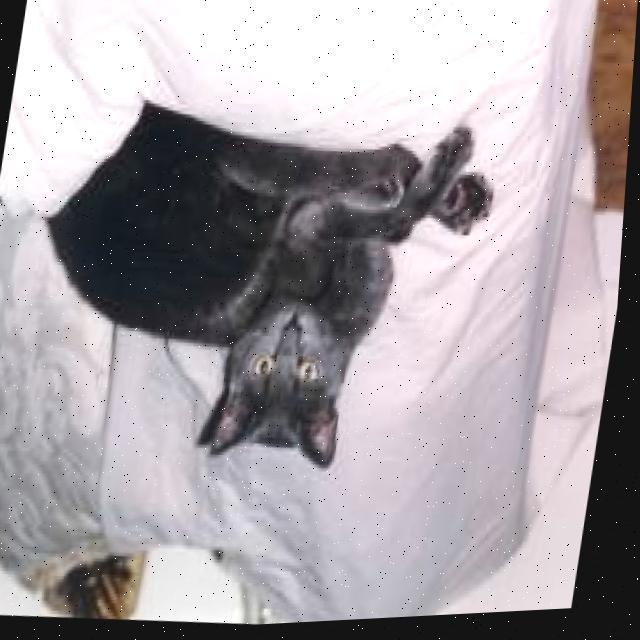Russian Blue: (10, 72, 517, 504)
